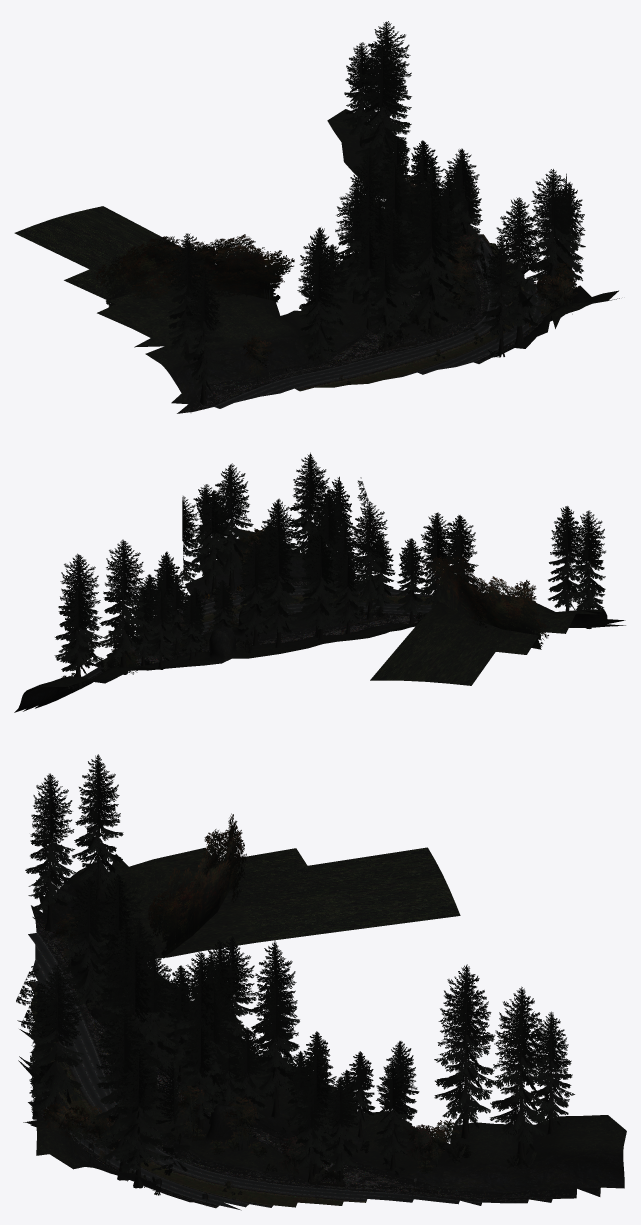
Rendered from cell_-1_-17.gltf.
3 renders of one model, top to bottom at view 1: azimuth 30°, elevation 25°; view 2: azimuth 150°, elevation 25°; view 3: azimuth 270°, elevation 25°, orthographic. The views are drawn at different scales.
Parts seen in each view (by area): view 1: cell_-1_-17; view 2: cell_-1_-17; view 3: cell_-1_-17.
Part boxes in pixels (left/top/right/bottom): cell_-1_-17: left=14, top=21, right=619, bottom=413; cell_-1_-17: left=14, top=452, right=625, bottom=712; cell_-1_-17: left=16, top=754, right=626, bottom=1210.
Bounding box in the file's own units: 272 × 107 × 266.
Materials: 35 (35 with a texture image).
